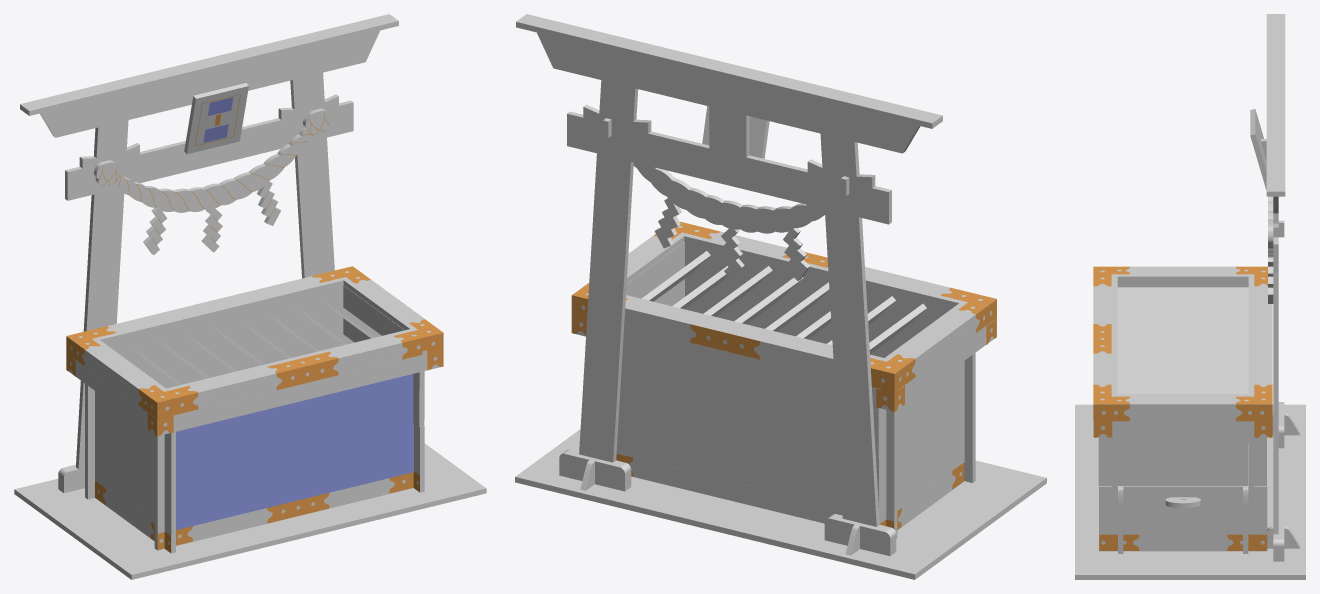
File: 賽銭箱2.glb
The picture shows the model from 3 angles, left to right: view 1: azimuth 30°, elevation 25°; view 2: azimuth 150°, elevation 25°; view 3: azimuth 270°, elevation 25°; orthographic projection. The views are drawn at different scales.
Parts seen in each view (by area): view 1: 本体, 刻印３(大きな文字), 茶色; view 2: 本体, 茶色; view 3: 本体, 茶色.
Boxes of the visible parts, box(x1,y1,x2,y2) form: 本体: box(14, 14, 486, 579); 刻印３(大きな文字): box(176, 374, 413, 529); 茶色: box(66, 94, 443, 552); 本体: box(515, 14, 1046, 579); 茶色: box(571, 187, 996, 529); 本体: box(1075, 14, 1305, 579); 茶色: box(1093, 266, 1272, 550).
Bounding box in the file's own units: 156 × 163 × 85.56.
